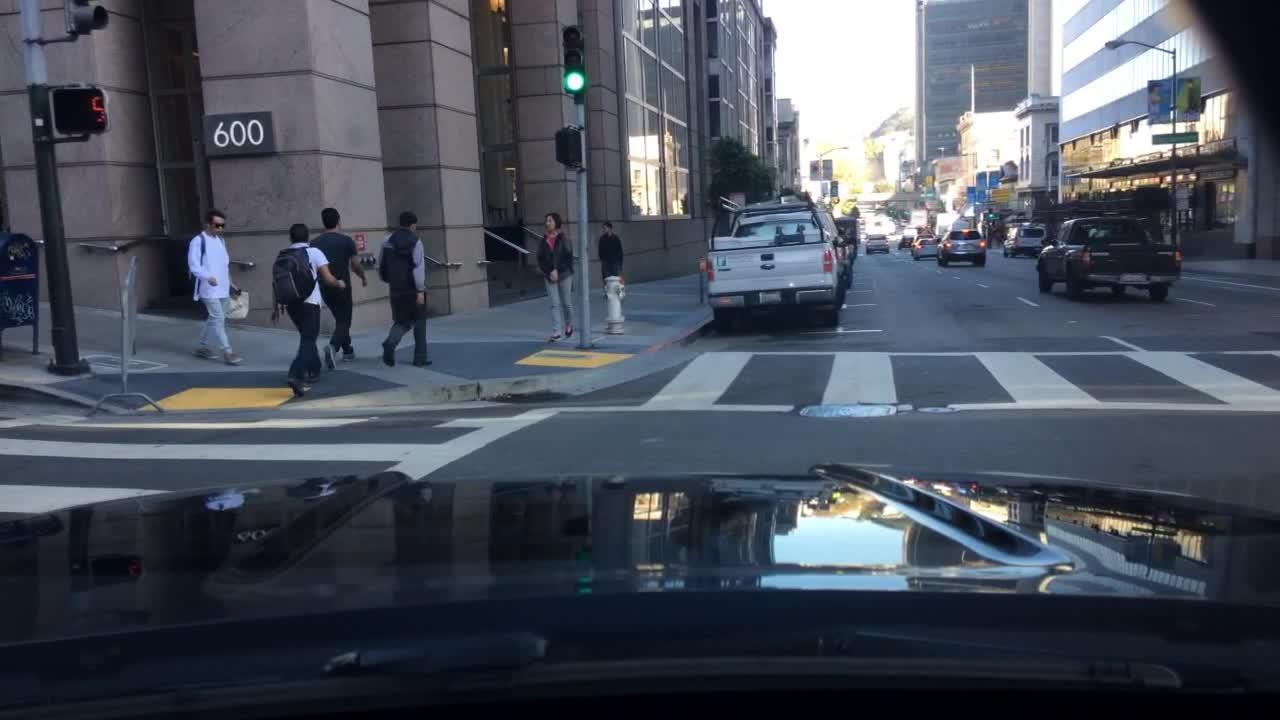ford: (756, 260, 779, 275)
